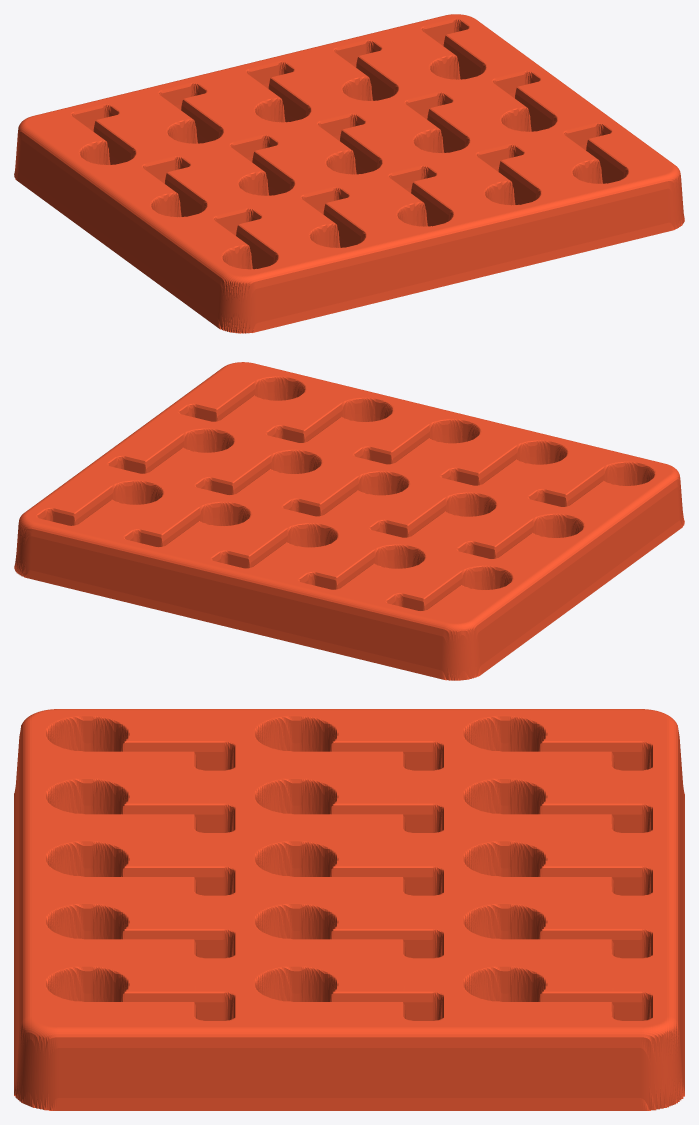
The model's file is mold.glb.
3 renders of one model, top to bottom at view 1: azimuth 30°, elevation 25°; view 2: azimuth 150°, elevation 25°; view 3: azimuth 270°, elevation 25°, orthographic. The views are drawn at different scales.
Visible parts, largest first — view 1: geometry_0; view 2: geometry_0; view 3: geometry_0.
Boxes of the visible parts, x1,y1,x2,y2 form: geometry_0: (14,14,684,333); geometry_0: (14,362,684,680); geometry_0: (14,709,684,1110).
Size of the model in its own units: 0.1629 by 0.0175 by 0.1392.
